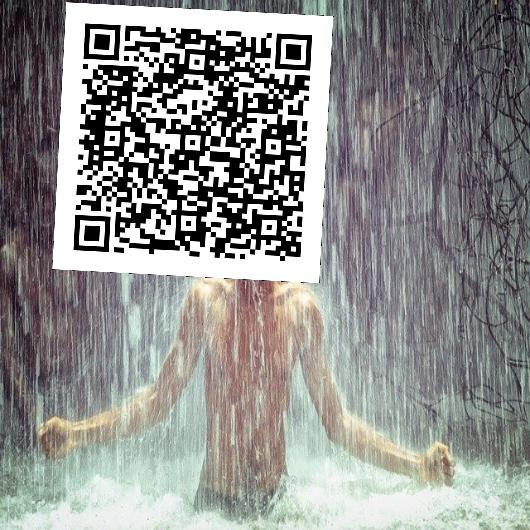qr_code: (52, 1, 333, 282)
